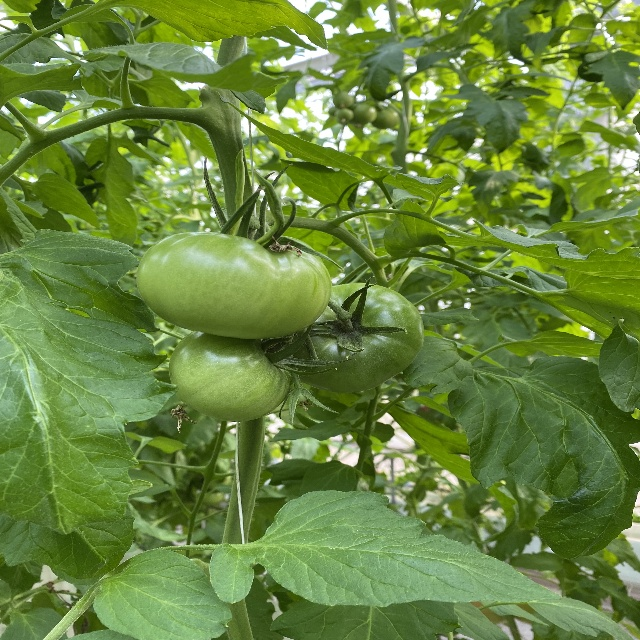b_green: (136, 231, 332, 340), (276, 282, 424, 392), (169, 332, 293, 422)
